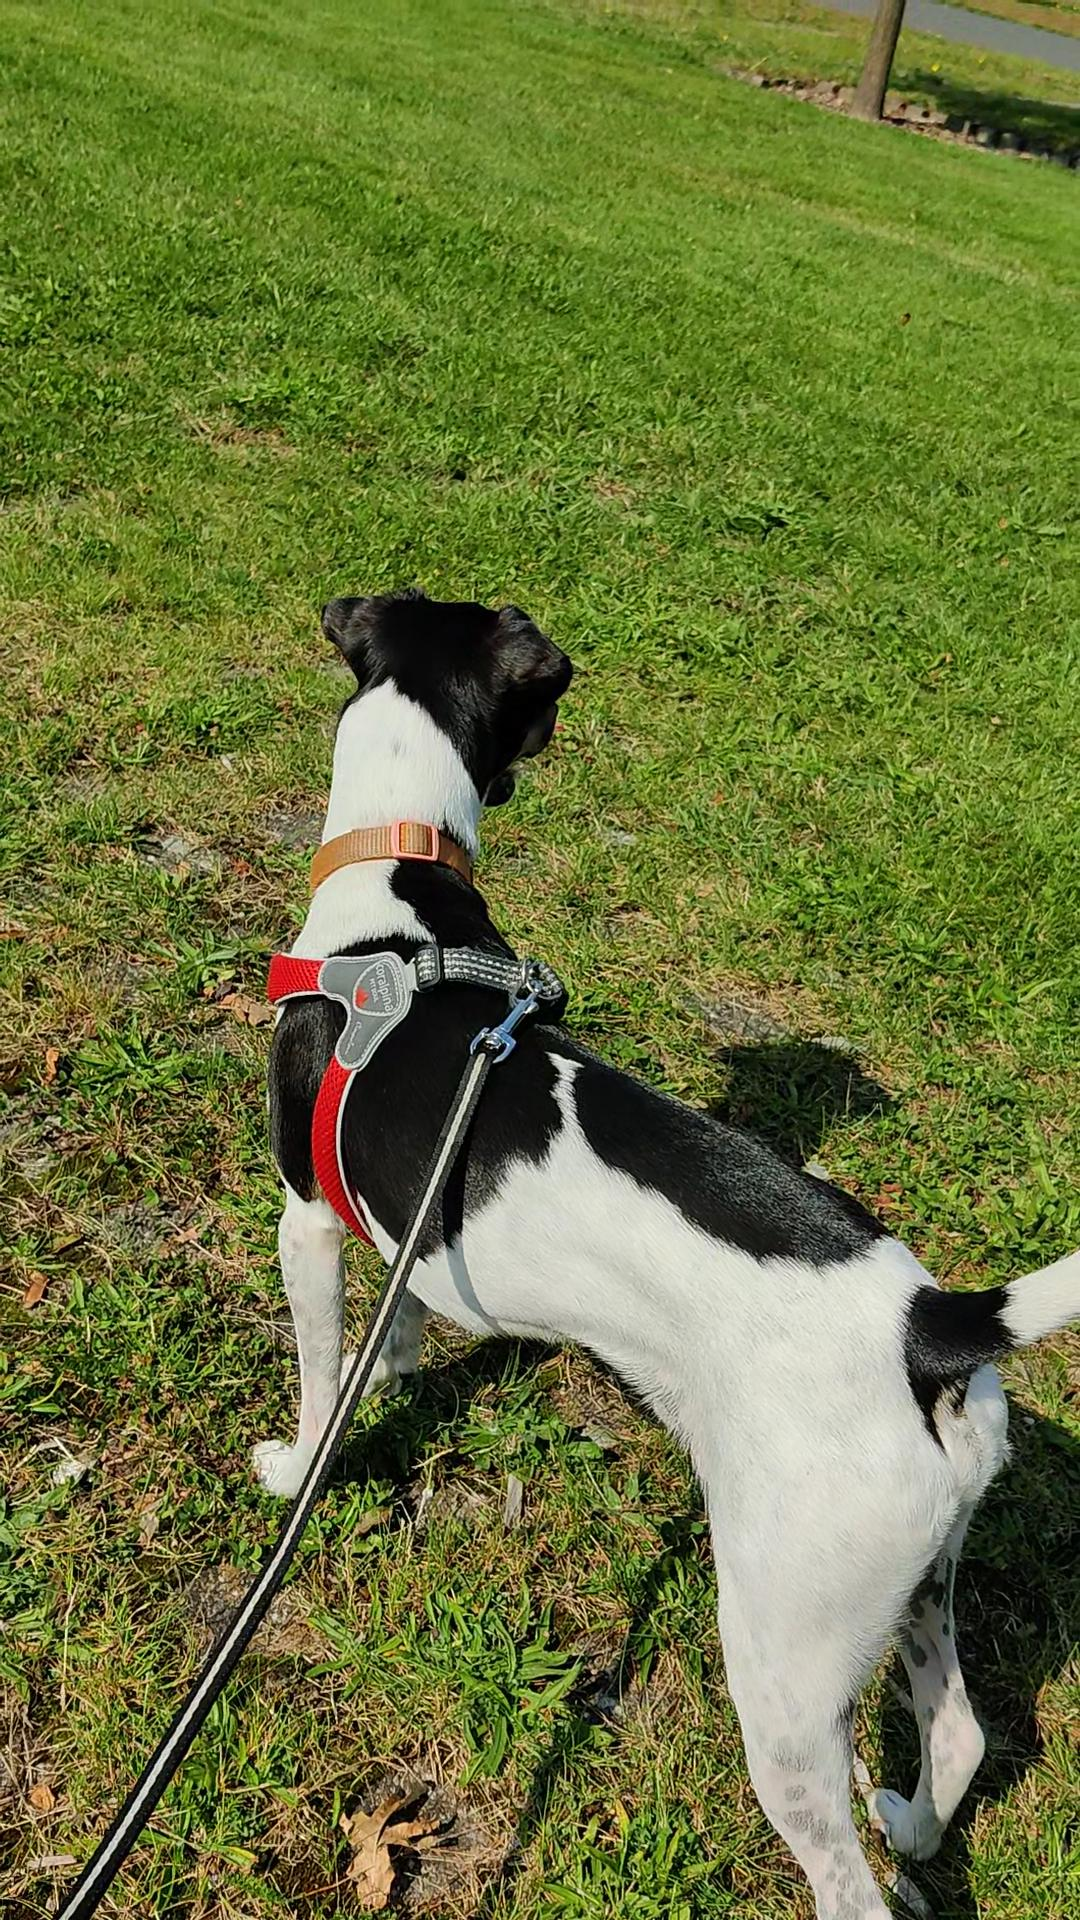Dog: (239, 582, 1079, 1919)
